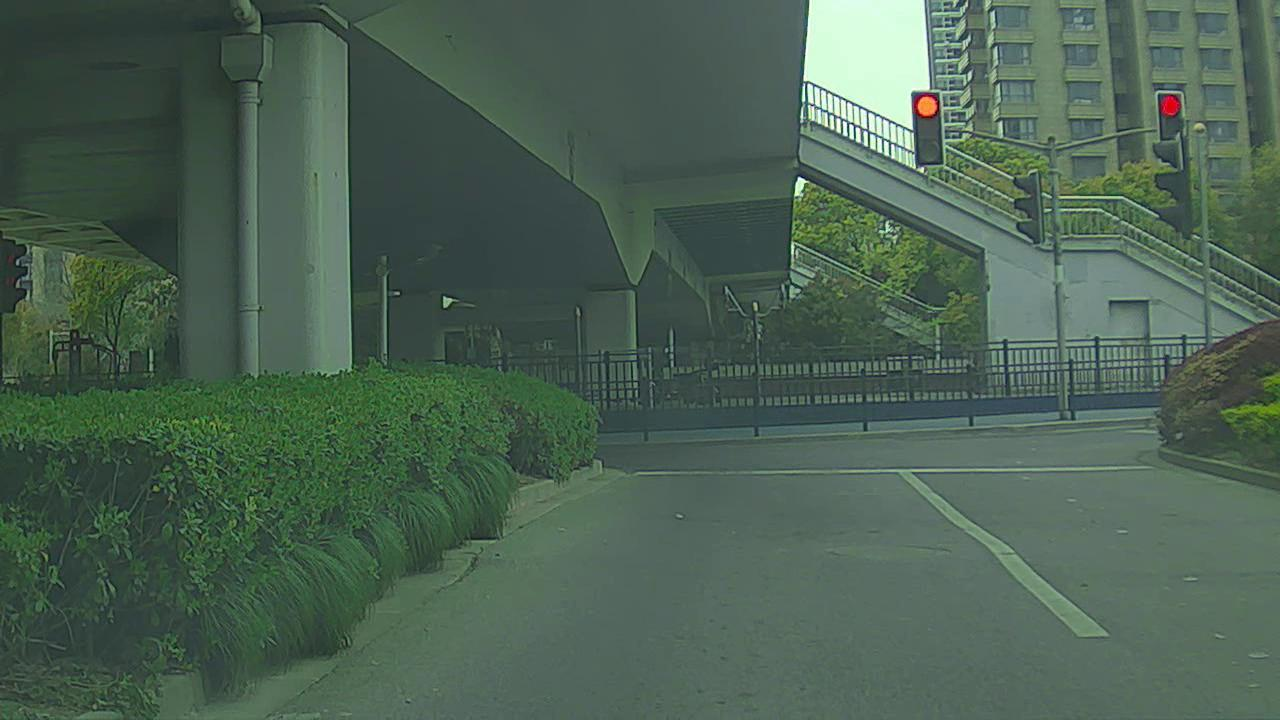traffic_light: (913, 88, 947, 166), (1158, 89, 1185, 147)
